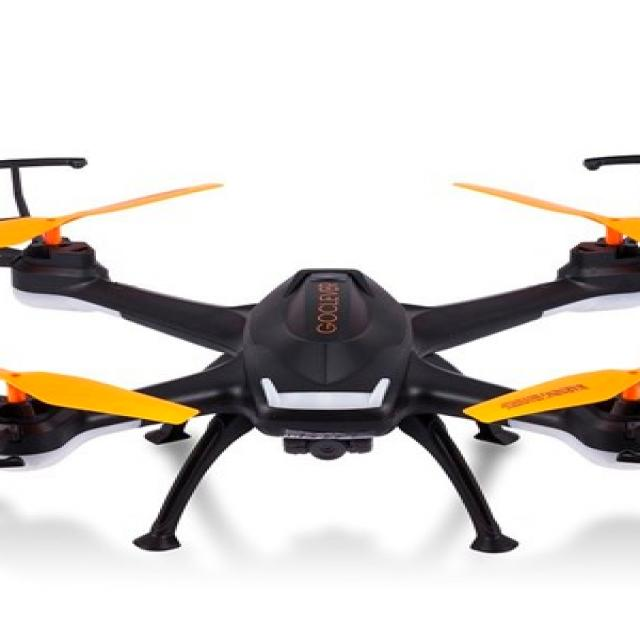drone: (0, 158, 640, 530)
